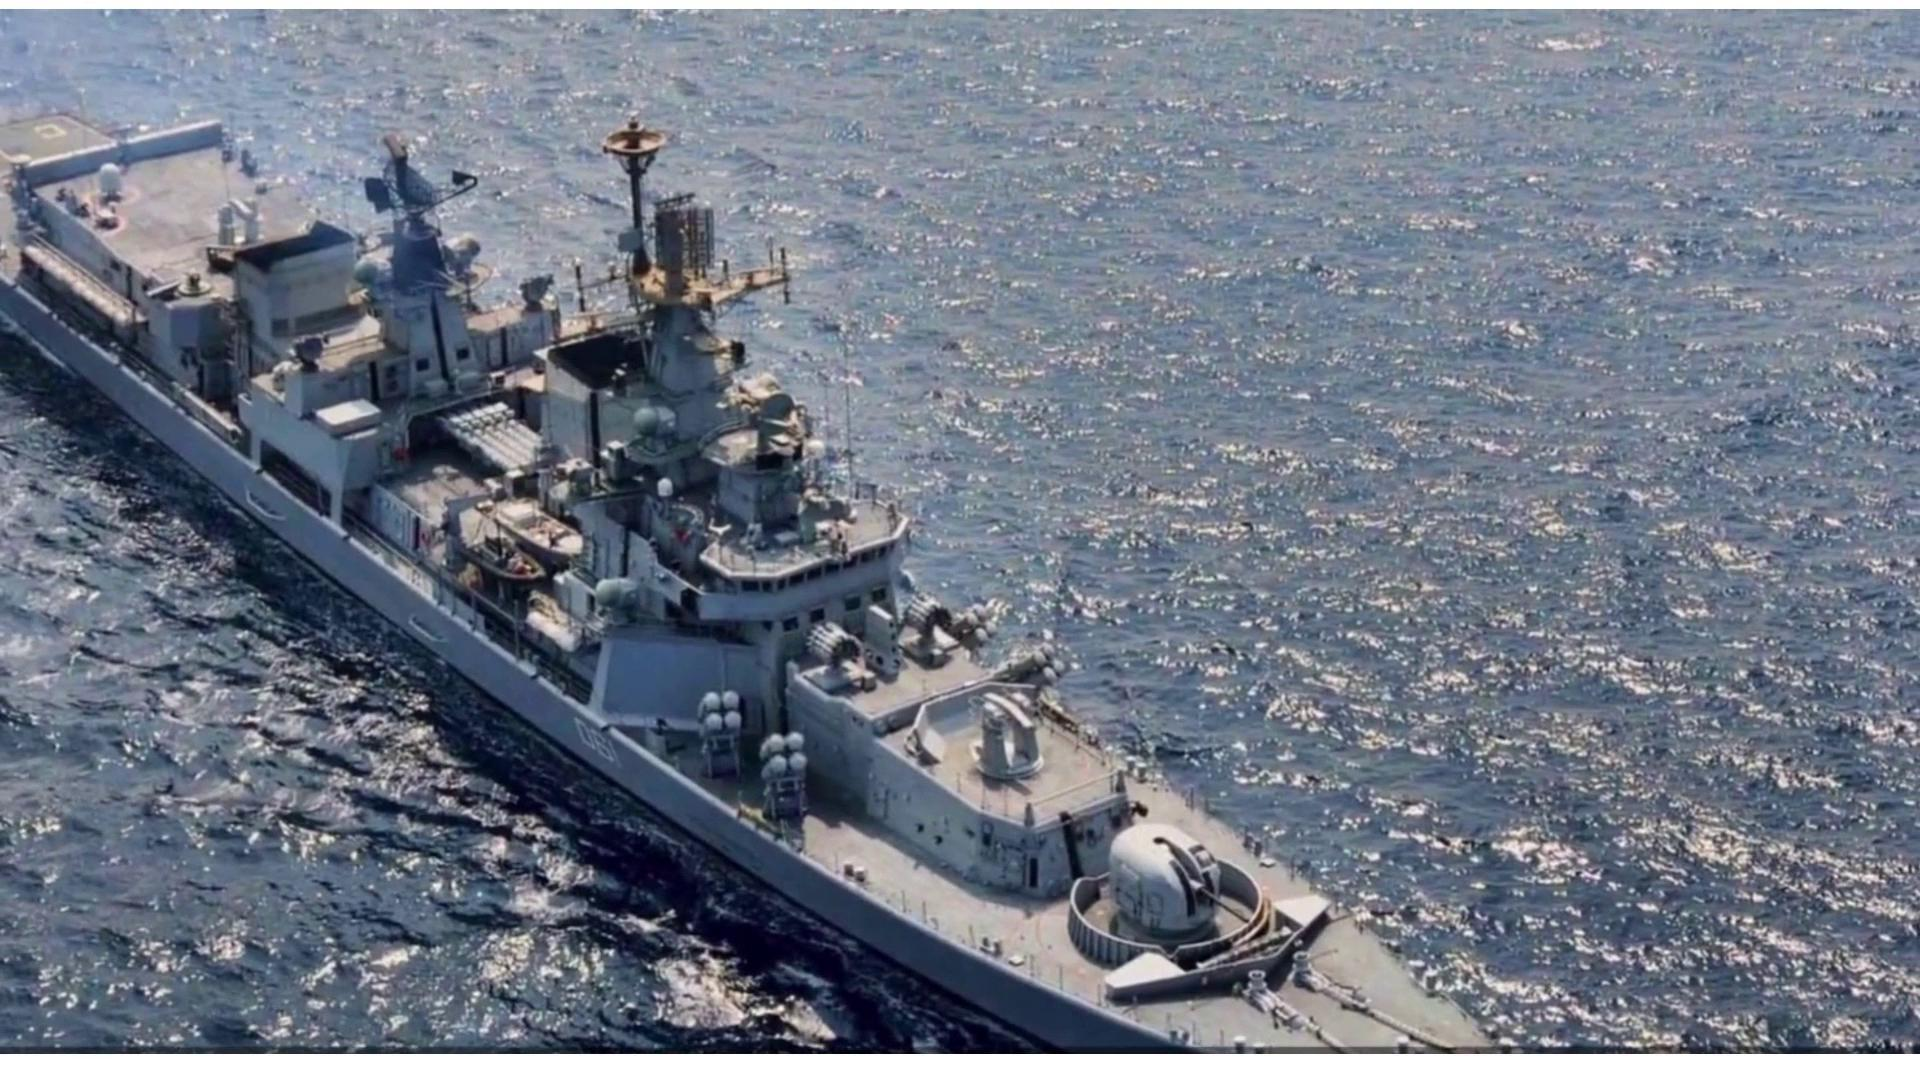OCR: (562, 706, 640, 786)
